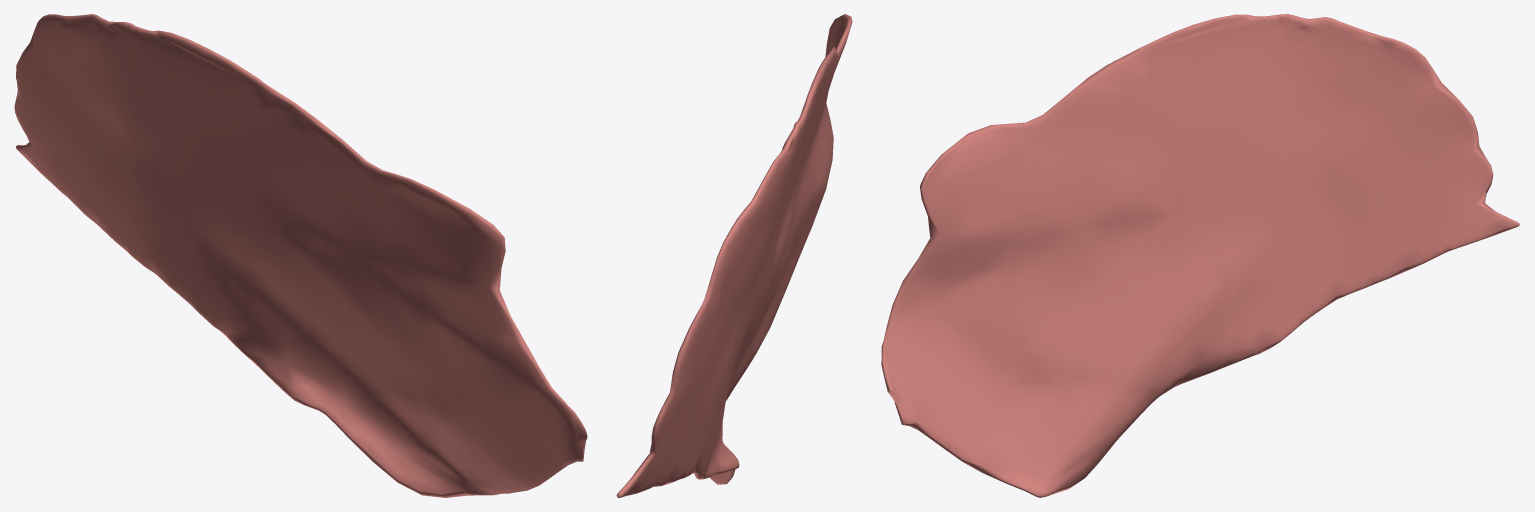
The picture shows the model from 3 angles, left to right: view 1: azimuth 30°, elevation 25°; view 2: azimuth 150°, elevation 25°; view 3: azimuth 270°, elevation 25°; orthographic projection. The views are drawn at different scales.
Parts seen in each view (by area): view 1: ZA_3a046fc2f48b4ec2; view 2: ZA_3a046fc2f48b4ec2; view 3: ZA_3a046fc2f48b4ec2.
Boxes of the visible parts, x1=… form: ZA_3a046fc2f48b4ec2: x1=14, y1=14, x2=587, y2=497; ZA_3a046fc2f48b4ec2: x1=616, y1=14, x2=852, y2=497; ZA_3a046fc2f48b4ec2: x1=881, y1=14, x2=1520, y2=497.
Size of the model in its own units: 0.0264 by 0.0432 by 0.0633.
